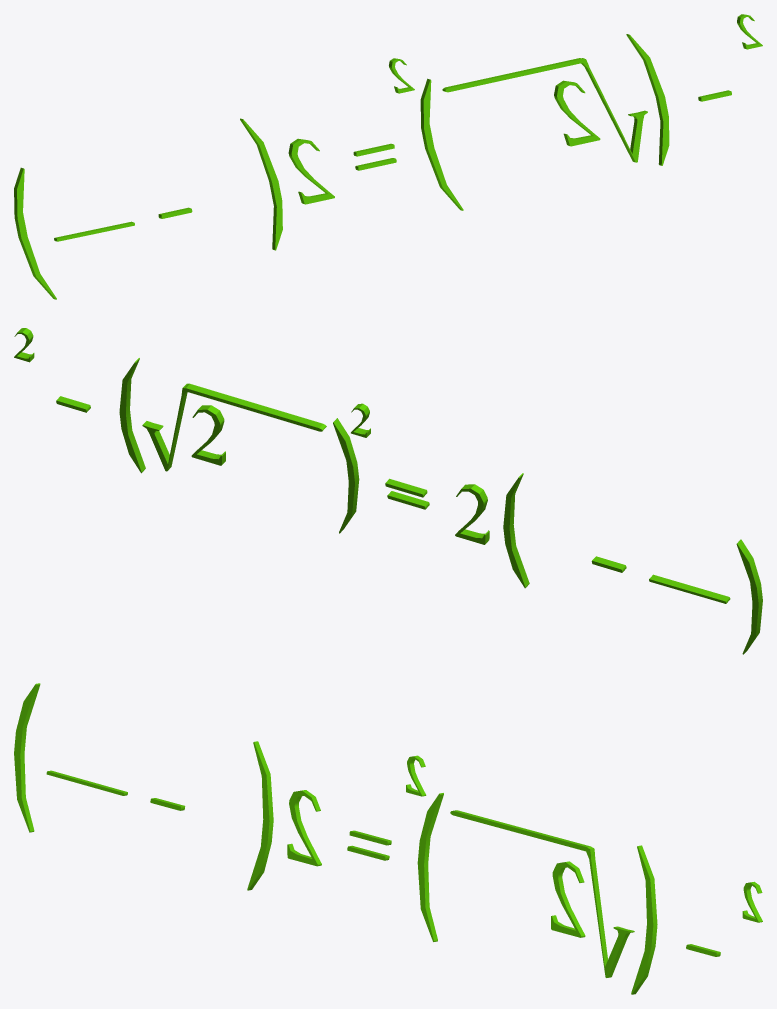
Rendered from bformulaB.fbx.
3 views of the same model, one above another, from view 1: azimuth 30°, elevation 25°; view 2: azimuth 150°, elevation 25°; view 3: azimuth 330°, elevation 25° (orthographic). The views are drawn at different scales.
Visible parts, largest first — view 1: bformulaB; view 2: bformulaB; view 3: bformulaB.
Part boxes in pixels (x1,y1,x2,y2): bformulaB: [14, 14, 762, 299]; bformulaB: [14, 328, 762, 654]; bformulaB: [14, 683, 762, 994].
Size of the model in its own units: 52.51 by 10.6 by 5.88.
